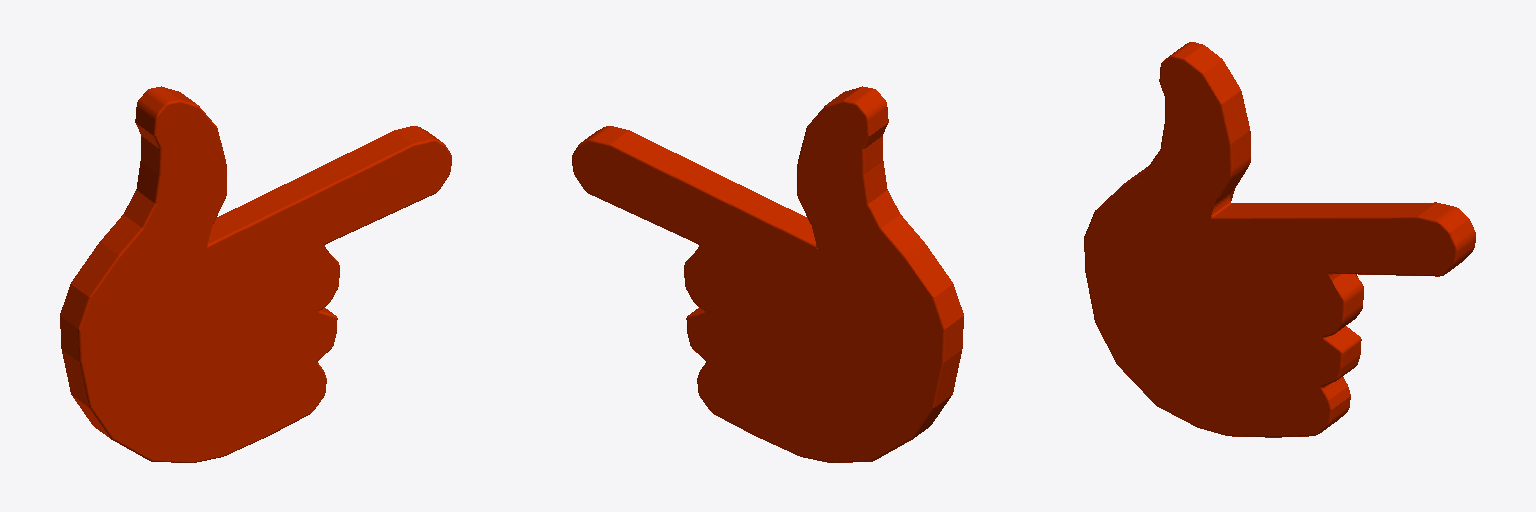
Rendered from shikou_hand.obj.
3 renders of one model, left to right at view 1: azimuth 30°, elevation 25°; view 2: azimuth 150°, elevation 25°; view 3: azimuth 330°, elevation 25°, orthographic.
Visible parts, largest first — view 1: 立方体.002; view 2: 立方体.002; view 3: 立方体.002.
Boxes of the visible parts, x1=… form: 立方体.002: x1=60, y1=86, x2=451, y2=462; 立方体.002: x1=572, y1=86, x2=963, y2=462; 立方体.002: x1=1084, y1=42, x2=1475, y2=437.
Bounding box in the file's own units: 1.07 × 1.01 × 0.1.